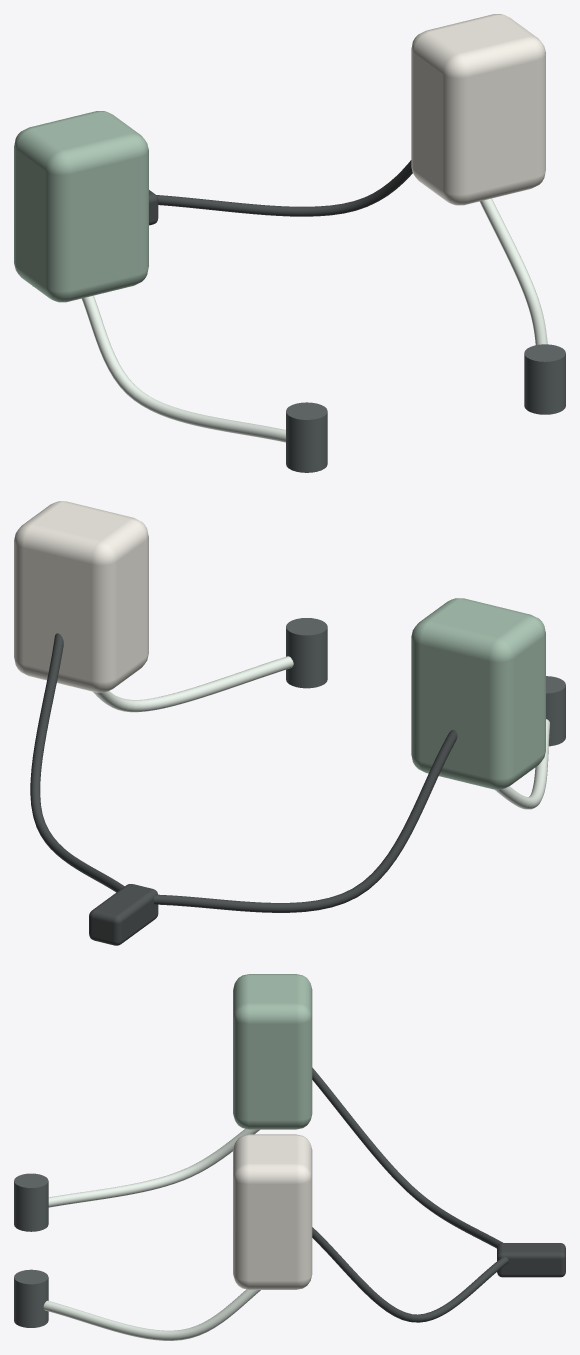
Rendered from hearing-aid-and-audiology-clinic-insert-earphone-trans-4026e9e8__31727.glb.
The picture shows the model from 3 angles, top to bottom: view 1: azimuth 30°, elevation 25°; view 2: azimuth 150°, elevation 25°; view 3: azimuth 270°, elevation 25°; orthographic projection. The views are drawn at different scales.
Parts seen in each view (by area): view 1: insert-earphone-transducer-set; view 2: insert-earphone-transducer-set; view 3: insert-earphone-transducer-set.
Boxes of the visible parts, x1,y1,x2,y2 form: insert-earphone-transducer-set: (14,14,565,472); insert-earphone-transducer-set: (14,501,565,945); insert-earphone-transducer-set: (14,974,565,1340).
Bounding box in the file's own units: 0.138 × 0.065 × 0.16.
